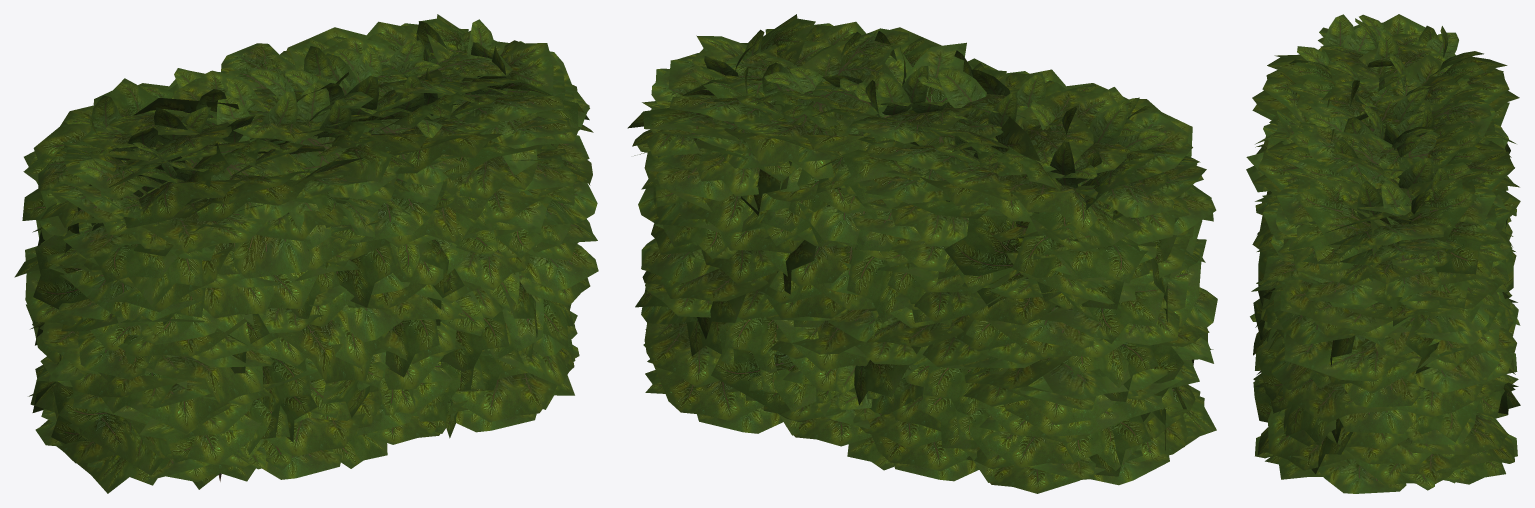
The model's file is Planta.fbx.
3 renders of one model, left to right at view 1: azimuth 30°, elevation 25°; view 2: azimuth 150°, elevation 25°; view 3: azimuth 270°, elevation 25°, orthographic. The views are drawn at different scales.
Visible parts, largest first — view 1: LODGroup_1_MainMesh_1_SubMesh_1; view 2: LODGroup_1_MainMesh_1_SubMesh_1; view 3: LODGroup_1_MainMesh_1_SubMesh_1.
Part boxes in pixels (x1,y1,x2,y2): LODGroup_1_MainMesh_1_SubMesh_1: [14, 14, 598, 493]; LODGroup_1_MainMesh_1_SubMesh_1: [627, 14, 1217, 493]; LODGroup_1_MainMesh_1_SubMesh_1: [1246, 14, 1520, 493].
Size of the model in its own units: 400 by 260 by 198.
